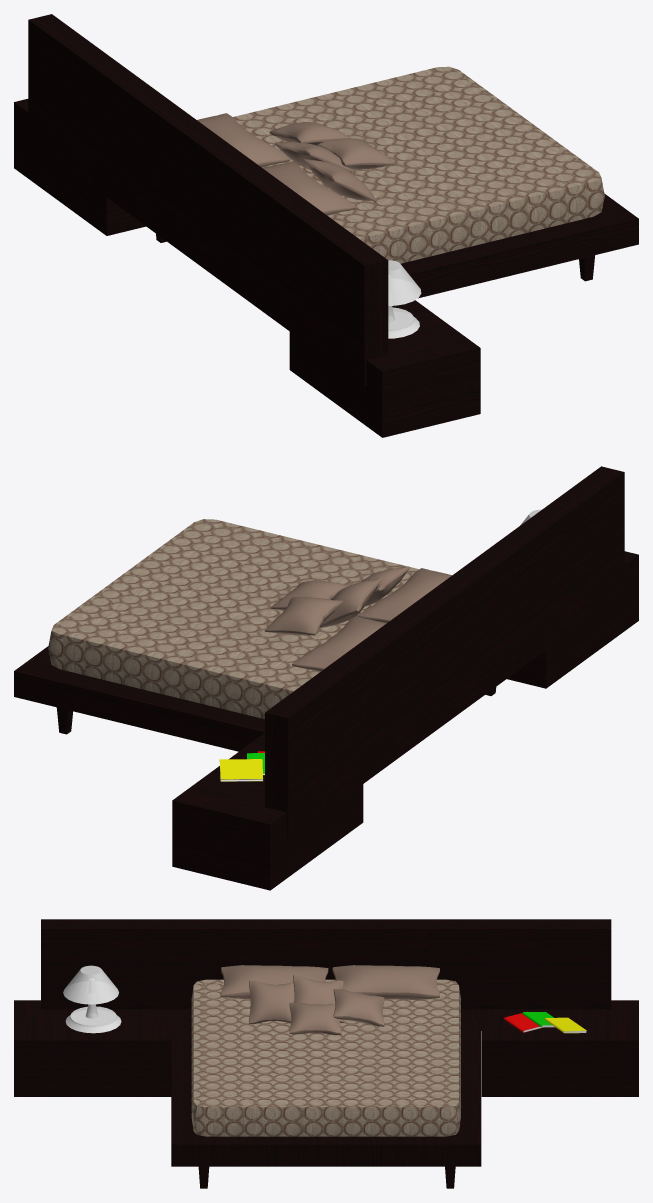
File: bed.fbx
3 views of the same model, one above another, from view 1: azimuth 30°, elevation 25°; view 2: azimuth 150°, elevation 25°; view 3: azimuth 270°, elevation 25° (orthographic). The views are drawn at different scales.
Parts seen in each view (by area): view 1: pCube8, pCube9, pCube2, pCube1, pCube20, polySurface3, polySurface4, polySurface1, polySurface5, polySurface6, pCylinder3, polySurface2 (+1 smaller); view 2: pCube8, pCube9, pCube20, pCube1, pCube2, polySurface3, polySurface6, polySurface4, polySurface2, pCube19, polySurface1, polySurface5; view 3: pCube8, pCube9, pCube1, pCube20, pCube2, polySurface3, polySurface4, polySurface5, pCylinder3, polySurface6, polySurface1, polySurface2 (+3 smaller).
Part boxes in pixels (x1,y1,x2,y2): pCube8: (28, 14, 388, 386); pCube9: (233, 66, 604, 263); pCube2: (289, 300, 480, 437); pCube1: (401, 193, 638, 298); pCube20: (14, 99, 145, 235); polySurface3: (197, 113, 290, 167); polySurface4: (263, 161, 356, 215); polySurface1: (317, 138, 394, 169); polySurface5: (303, 159, 376, 201); polySurface6: (269, 122, 350, 145); pCylinder3: (388, 260, 421, 305); polySurface2: (274, 142, 353, 172); pCube8: (265, 466, 624, 838); pCube9: (48, 519, 418, 719); pCube20: (172, 733, 363, 890); pCube1: (14, 646, 264, 751); pCube2: (507, 551, 638, 688); polySurface3: (292, 616, 386, 672); polySurface6: (264, 597, 343, 635); polySurface4: (358, 568, 451, 623); polySurface2: (319, 578, 381, 627); pCube19: (219, 759, 263, 781); polySurface1: (271, 580, 350, 610); polySurface5: (361, 566, 409, 606); pCube8: (41, 919, 611, 1030); pCube9: (191, 979, 460, 1136); pCube1: (171, 1009, 481, 1166); pCube20: (481, 1000, 638, 1096); pCube2: (14, 1000, 171, 1096); polySurface3: (332, 965, 439, 999); polySurface4: (220, 965, 328, 998); polySurface5: (249, 980, 294, 1024); pCylinder3: (63, 965, 118, 1004); polySurface6: (333, 989, 384, 1026); polySurface1: (289, 1002, 341, 1035); polySurface2: (293, 975, 343, 1022).
Bounding box in the file's own units: 27.85 × 12.19 × 50.63.
Materials: 11 (5 with a texture image).
